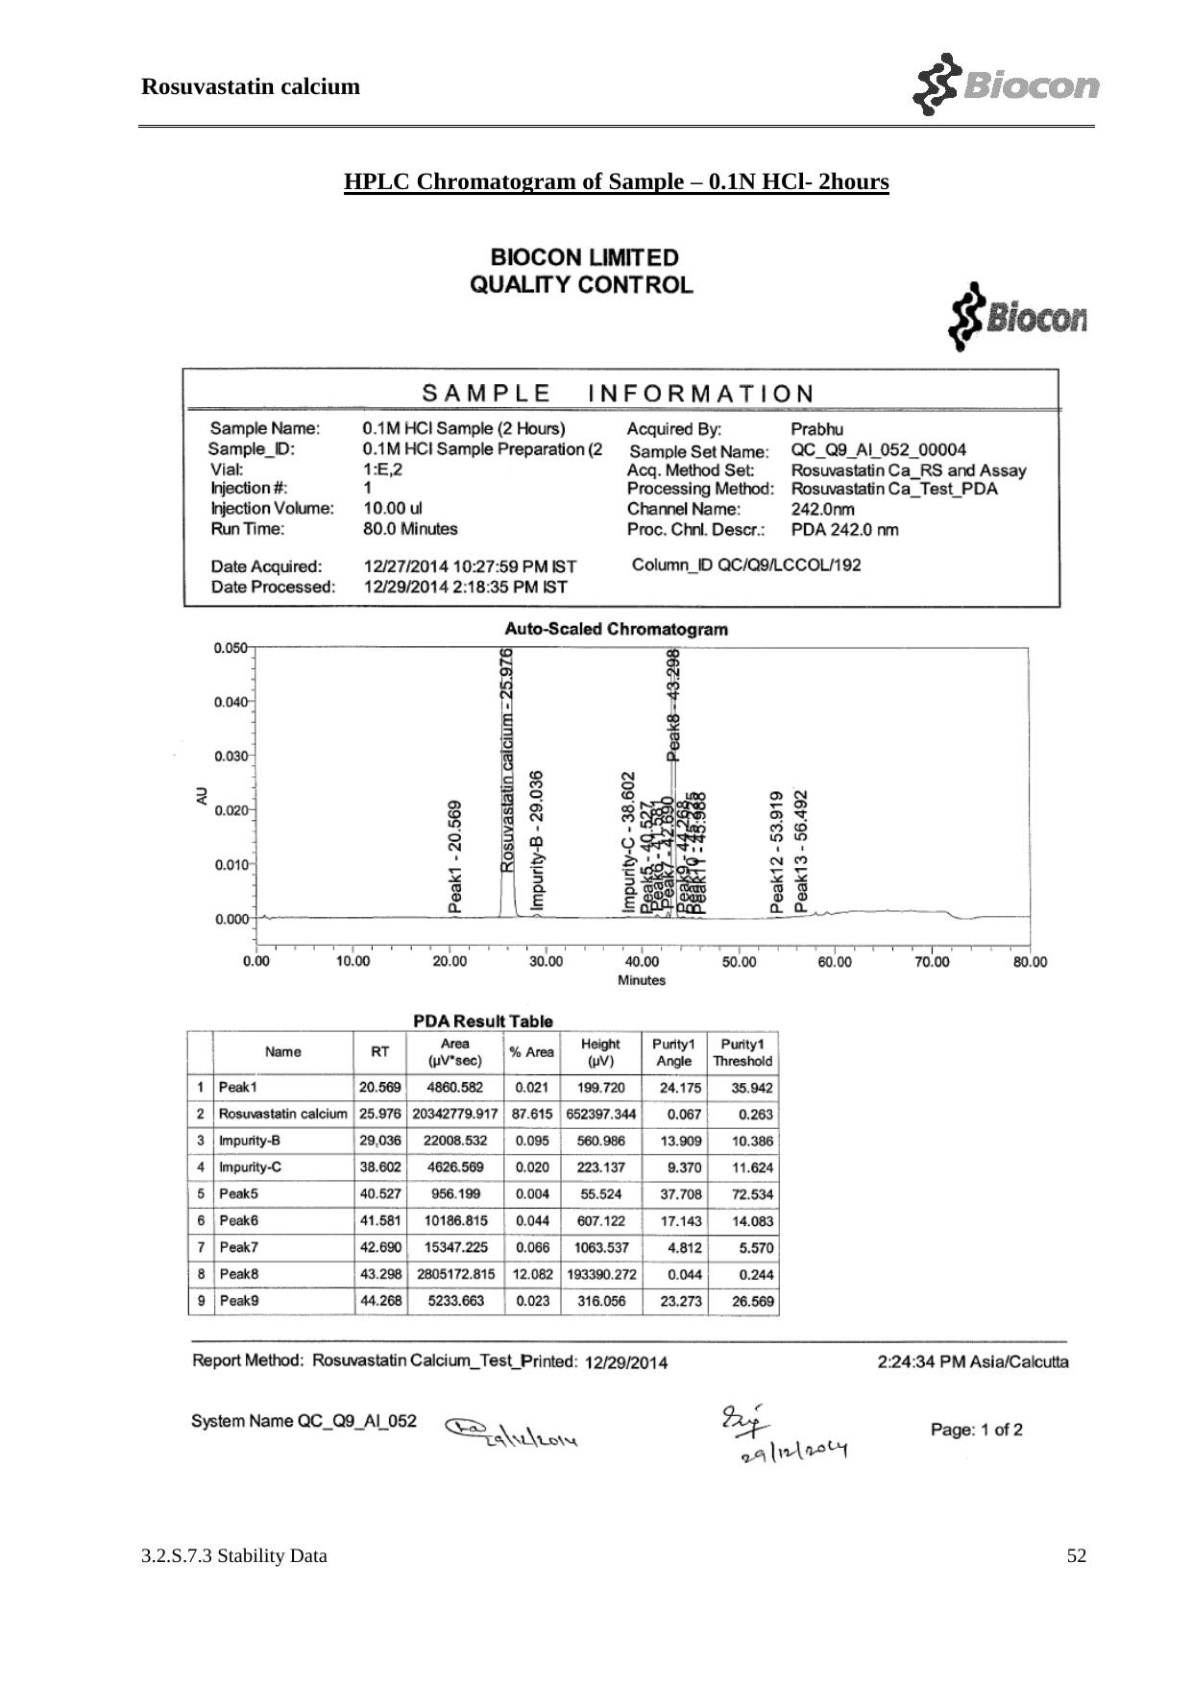full_lined: (184, 1030, 780, 1317)
partial_lined_merged_cells: (181, 367, 1062, 609)
